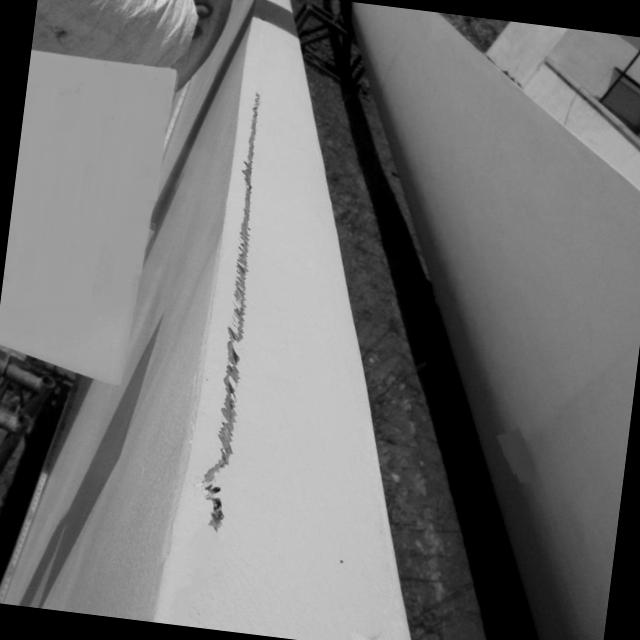crack: (198, 90, 280, 530)
